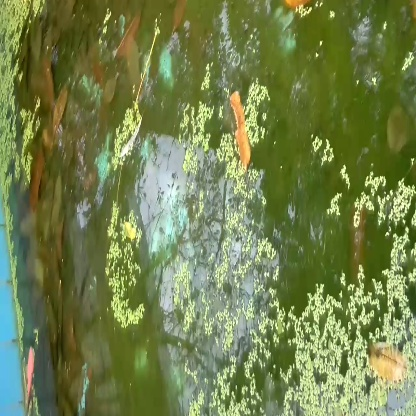leaf: (227, 90, 263, 167)
